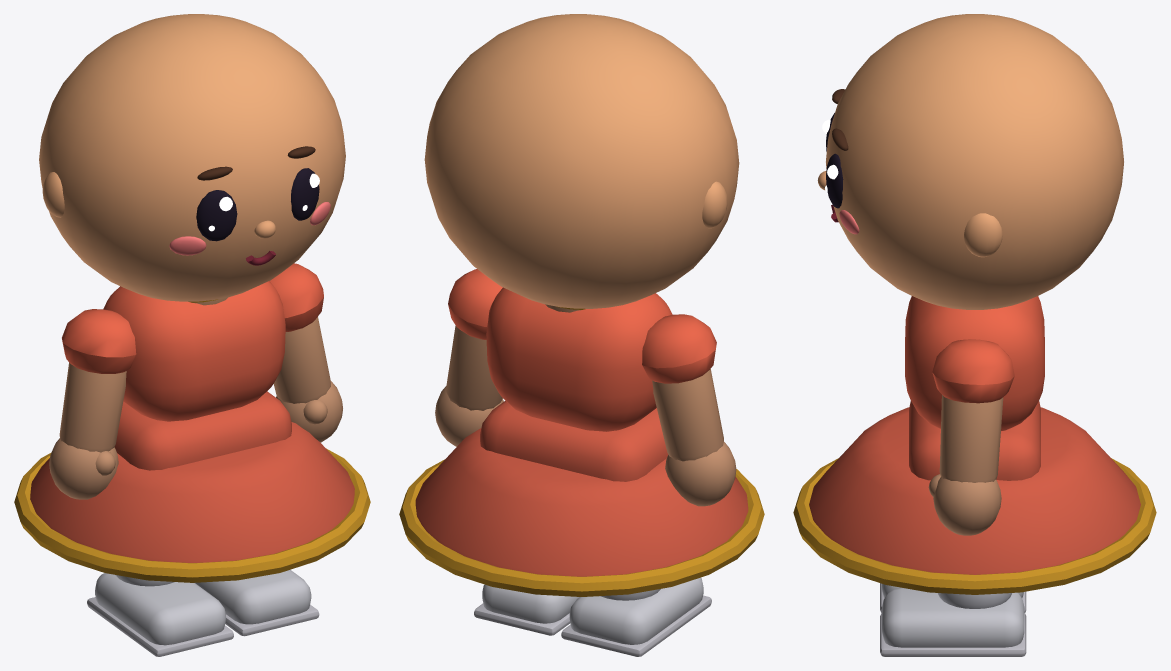
Rendered from body_child_dress.glb.
3 views of the same model, side by side, from view 1: azimuth 30°, elevation 25°; view 2: azimuth 150°, elevation 25°; view 3: azimuth 270°, elevation 25° (orthographic). The views are drawn at different scales.
Visible parts, largest first — view 1: Head, Hips, Torso, ArmR, LegR, ArmL, LegL; view 2: Head, Hips, Torso, ArmR, ArmL, LegR, LegL; view 3: Head, Hips, ArmL, Torso, LegL.
Boxes of the visible parts, left/top/right/bottom form: Head: left=39, top=14, right=345, bottom=301; Hips: left=14, top=391, right=370, bottom=582; Torso: left=103, top=281, right=285, bottom=421; ArmR: left=49, top=309, right=136, bottom=499; LegR: left=87, top=573, right=233, bottom=656; ArmL: left=270, top=263, right=342, bottom=442; LegL: left=195, top=570, right=319, bottom=636; Head: left=424, top=14, right=739, bottom=308; Hips: left=399, top=401, right=764, bottom=596; Torso: left=486, top=287, right=672, bottom=431; ArmR: left=642, top=314, right=736, bottom=506; ArmL: left=435, top=269, right=503, bottom=446; LegR: left=561, top=577, right=711, bottom=656; LegL: left=474, top=584, right=579, bottom=635; Head: left=817, top=14, right=1123, bottom=309; Hips: left=793, top=401, right=1156, bottom=594; ArmL: left=928, top=339, right=1014, bottom=535; Torso: left=905, top=296, right=1044, bottom=430; LegL: left=880, top=587, right=1026, bottom=656.
Size of the model in its own units: 0.6064 by 1.09 by 0.6064.
